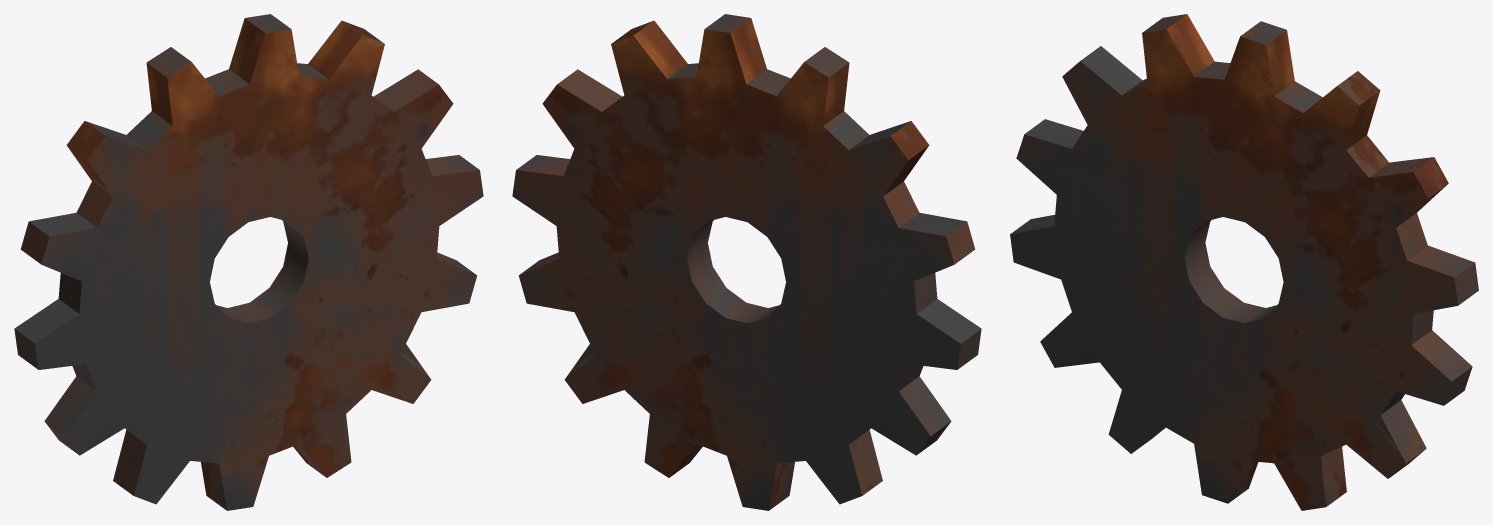
Rendered from Gear_Medium.glb.
3 renders of one model, left to right at view 1: azimuth 30°, elevation 25°; view 2: azimuth 150°, elevation 25°; view 3: azimuth 330°, elevation 25°, orthographic.
Parts seen in each view (by area): view 1: Gear_Medium; view 2: Gear_Medium; view 3: Gear_Medium.
Boxes of the visible parts, <box> form: Gear_Medium: <box>14,14,483,510</box>; Gear_Medium: <box>512,14,981,510</box>; Gear_Medium: <box>1010,14,1478,510</box>.
Bounding box in the file's own units: 0.4984 × 0.4998 × 0.04.
Materials: 1 (1 with a texture image).
